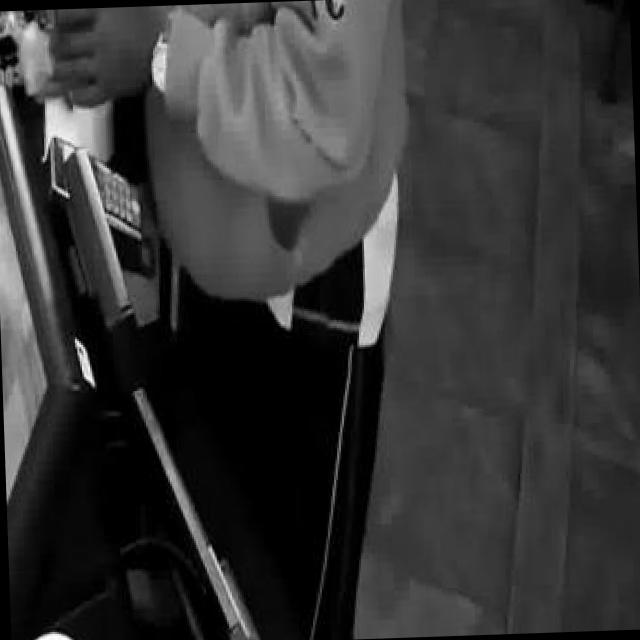Guns: (0, 6, 141, 59)
